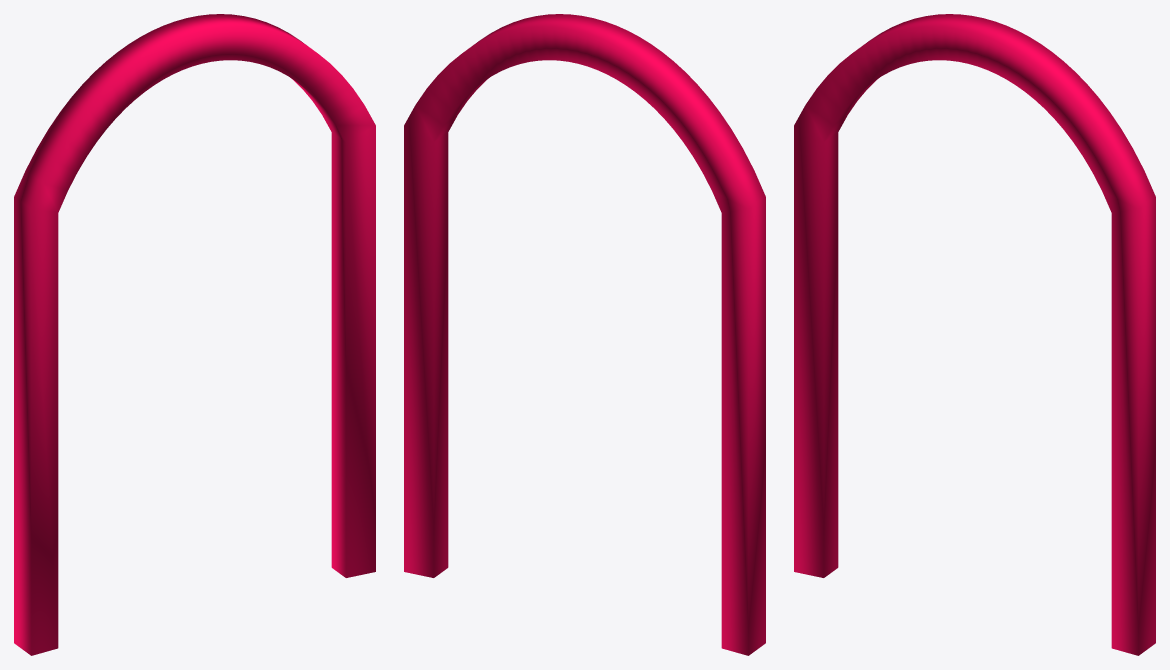
Rendered from Frame.fbx.
3 views of the same model, side by side, from view 1: azimuth 30°, elevation 25°; view 2: azimuth 150°, elevation 25°; view 3: azimuth 330°, elevation 25° (orthographic).
Visible parts, largest first — view 1: Frame; view 2: Frame; view 3: Frame.
Boxes of the visible parts, left/top/right/bottom form: Frame: left=14, top=14, right=375, bottom=655; Frame: left=404, top=14, right=765, bottom=655; Frame: left=794, top=14, right=1155, bottom=655.
Bounding box in the file's own units: 264 × 427 × 23.01.
